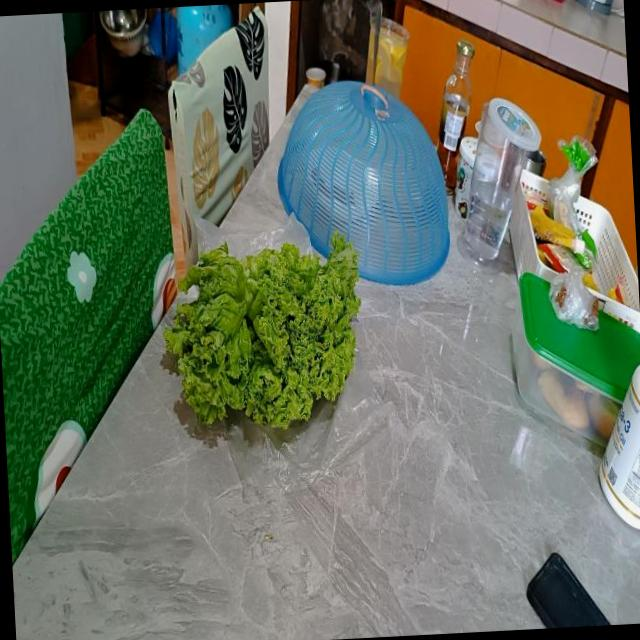Lettuce-Ready-to-Harvest: (165, 235, 359, 428)
